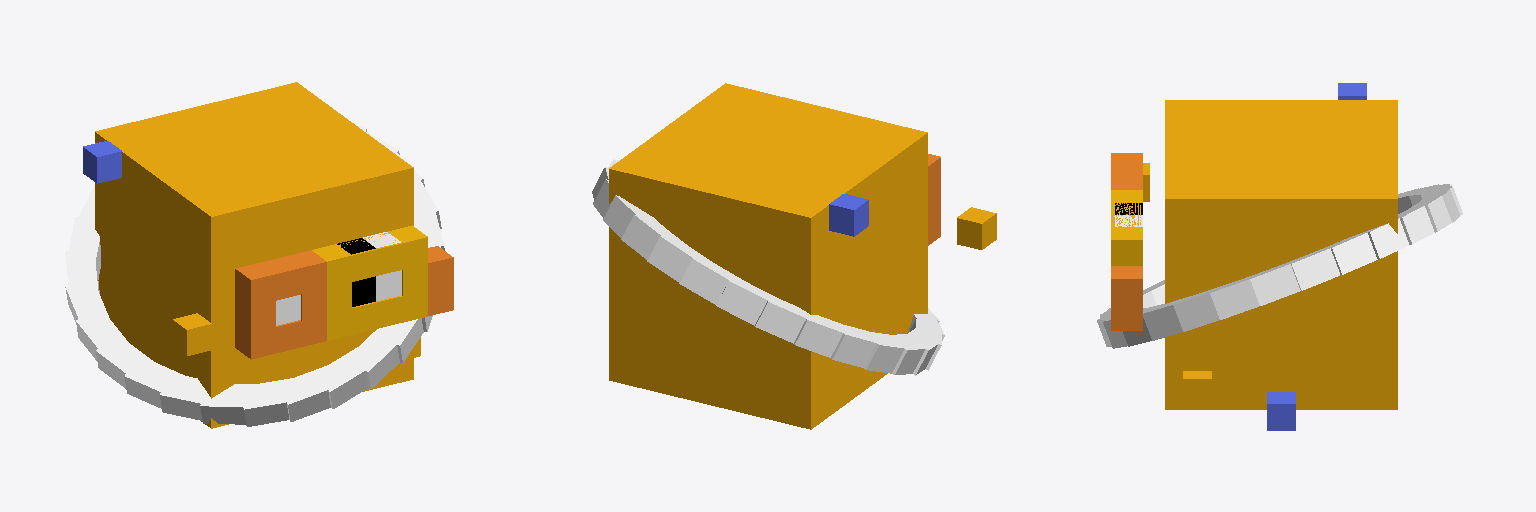
3 renders of one model, left to right at view 1: azimuth 30°, elevation 25°; view 2: azimuth 150°, elevation 25°; view 3: azimuth 270°, elevation 25°, orthographic.
Visible parts, largest first — view 1: Model; view 2: Model; view 3: Model.
Part boxes in pixels (bbox=[...]): Model: bbox=[65, 82, 453, 428]; Model: bbox=[592, 83, 996, 429]; Model: bbox=[1097, 83, 1462, 430].
Size of the model in its own units: 25.38 by 16.5 by 25.13.
1 materials, 1 textured.